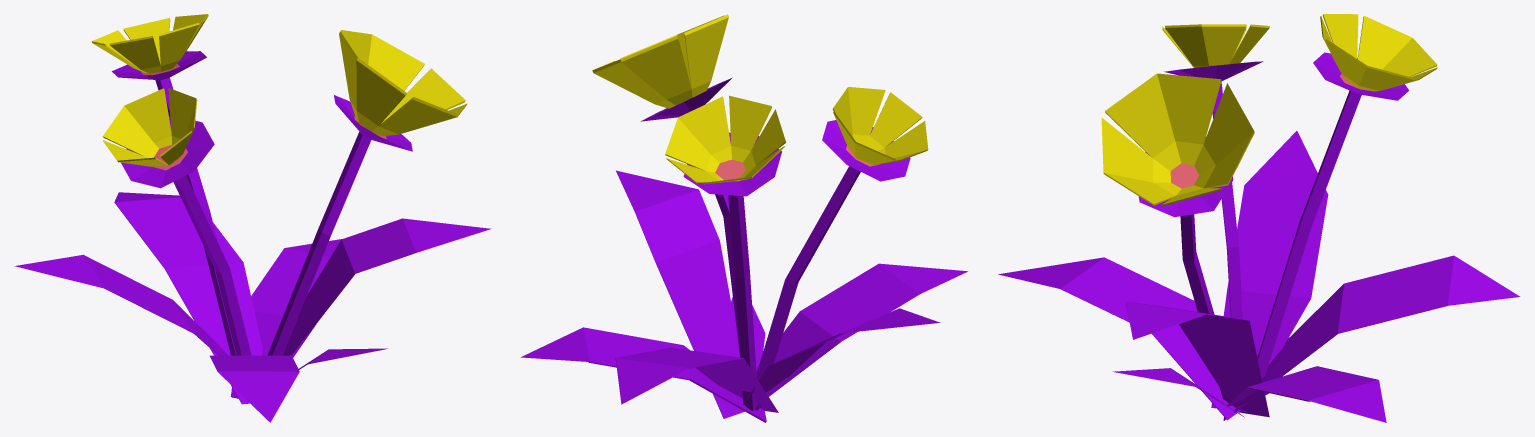
Rendered from decoration-flowers.fbx.
3 views of the same model, side by side, from view 1: azimuth 30°, elevation 25°; view 2: azimuth 150°, elevation 25°; view 3: azimuth 270°, elevation 25° (orthographic). The views are drawn at different scales.
Parts seen in each view (by area): view 1: decoration-flowers; view 2: decoration-flowers; view 3: decoration-flowers.
Part boxes in pixels (left/top/right/bottom): decoration-flowers: left=14, top=14, right=491, bottom=422; decoration-flowers: left=521, top=14, right=967, bottom=422; decoration-flowers: left=998, top=14, right=1520, bottom=422.
Size of the model in its own units: 0.7974 by 0.6772 by 0.8559.
